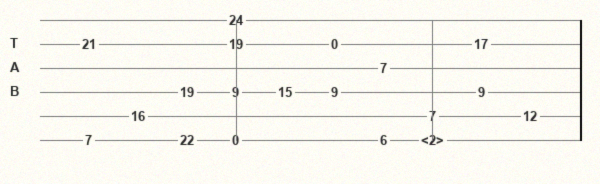0: (232, 133, 243, 147), (331, 37, 342, 51)
12: (523, 109, 541, 123)
15: (278, 85, 296, 99)
16: (131, 109, 149, 123)
17: (474, 37, 492, 51)
19: (180, 85, 198, 99), (229, 37, 247, 51)
21: (82, 37, 100, 51)
22: (180, 133, 198, 147)
24: (229, 13, 247, 27)
6: (380, 133, 391, 147)
7: (85, 133, 96, 147), (380, 61, 391, 75), (429, 109, 440, 123)
9: (232, 85, 243, 99), (331, 85, 342, 99), (478, 85, 489, 99)
harmonic: (421, 133, 448, 147)
